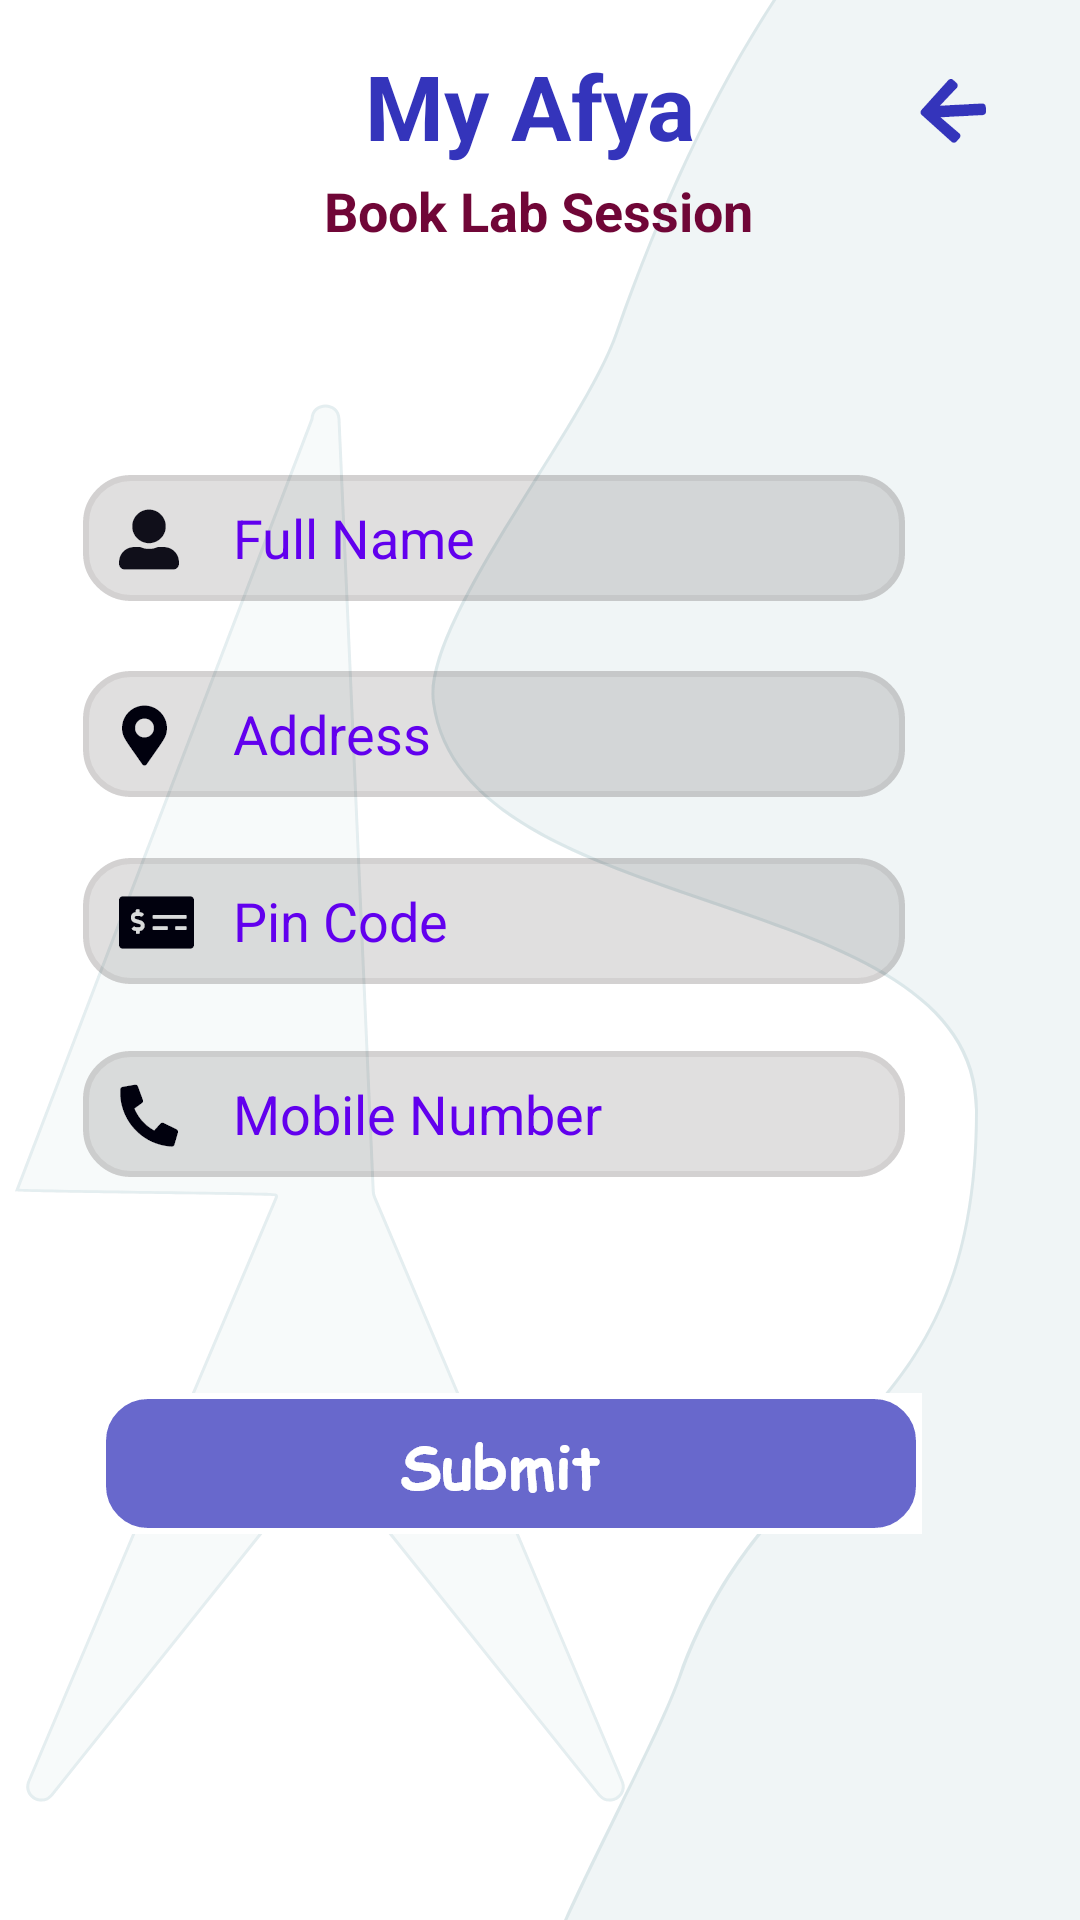

Point at icon controls on the screen. Image size 1080 x 1920, points as (x,y).
bacck: (953,111)
